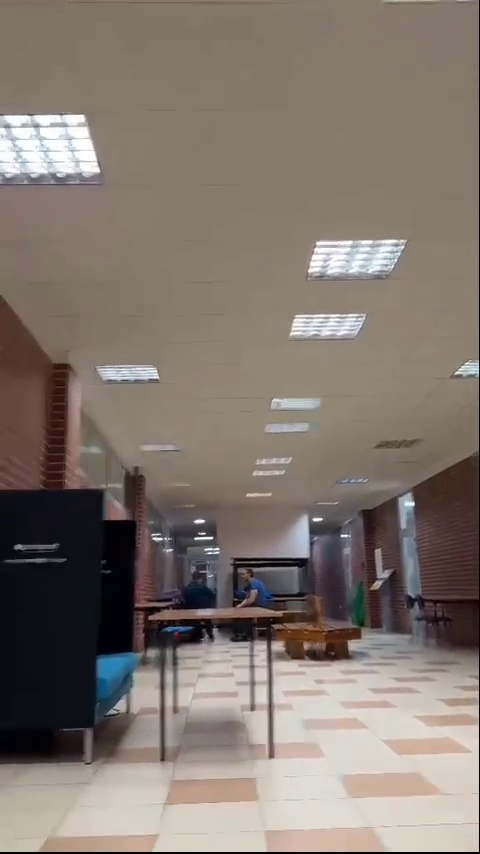drone: (161, 627, 192, 638)
no vest: (237, 565, 273, 611), (185, 570, 215, 608)
